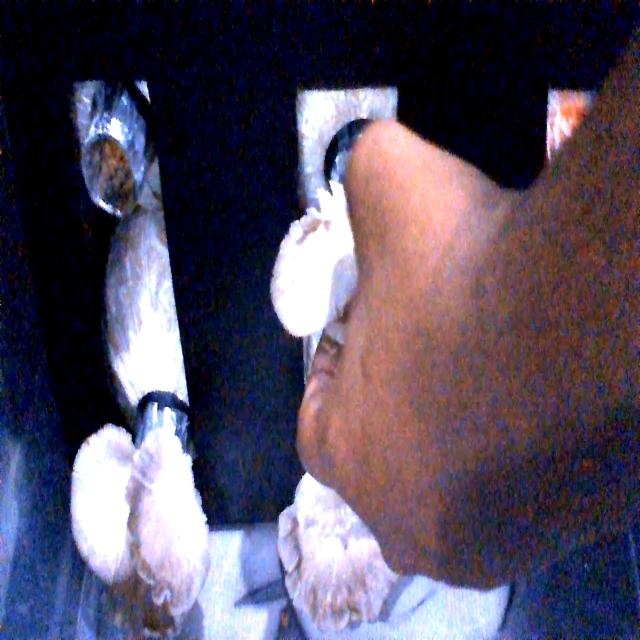big: (65, 410, 203, 610)
nfound: (74, 136, 142, 217)
